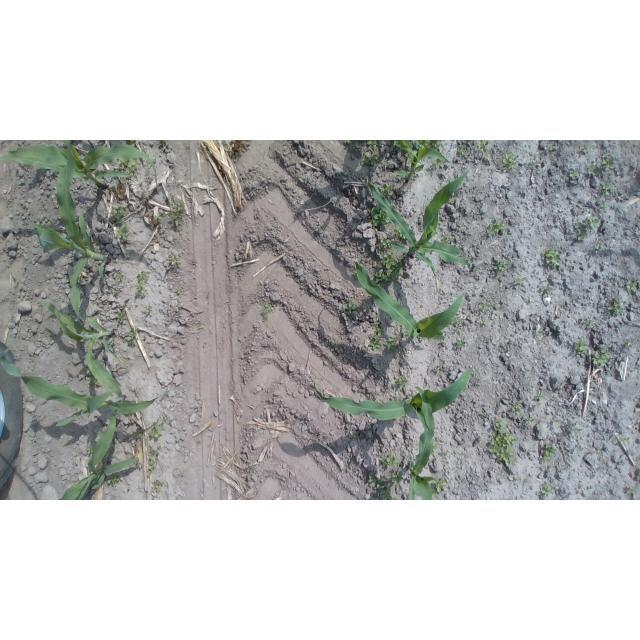Maize: (24, 141, 110, 324), (0, 344, 160, 427), (368, 167, 469, 292), (355, 253, 464, 340), (313, 366, 473, 420), (37, 299, 124, 398), (0, 140, 158, 189), (54, 414, 138, 500), (403, 386, 436, 500), (392, 140, 452, 182)
Weeds: (489, 415, 520, 465), (375, 252, 403, 285), (116, 155, 141, 177), (369, 205, 390, 227), (134, 271, 150, 295), (169, 201, 184, 224), (593, 349, 611, 367), (487, 220, 506, 237), (543, 248, 561, 265), (379, 453, 400, 467), (541, 444, 555, 464), (609, 297, 624, 315), (116, 221, 129, 241), (86, 367, 100, 385), (503, 152, 517, 170), (574, 339, 588, 357), (111, 206, 128, 220), (415, 141, 441, 150), (150, 422, 164, 438), (362, 151, 378, 165), (125, 326, 137, 344), (433, 479, 448, 493), (261, 302, 272, 321), (586, 214, 599, 230), (575, 224, 587, 241), (380, 484, 392, 501), (494, 260, 509, 273), (394, 226, 407, 240), (476, 140, 489, 154), (370, 335, 382, 350), (386, 338, 398, 353), (147, 448, 159, 463), (542, 482, 553, 498), (344, 302, 357, 315), (107, 474, 120, 487), (379, 184, 393, 196), (379, 236, 391, 250), (346, 140, 360, 152), (373, 322, 384, 337), (480, 300, 493, 312), (391, 472, 403, 485), (582, 317, 595, 329), (395, 376, 407, 388), (169, 255, 182, 266), (450, 317, 463, 328), (602, 158, 614, 169), (367, 473, 376, 487), (627, 281, 638, 292), (377, 477, 388, 488), (153, 480, 163, 492), (116, 312, 128, 322), (440, 235, 454, 243), (513, 405, 523, 416), (366, 141, 378, 150), (568, 428, 580, 437), (146, 464, 154, 477), (133, 428, 143, 438), (432, 158, 442, 168), (431, 441, 438, 455), (105, 449, 115, 458), (603, 184, 613, 193), (526, 418, 536, 427), (627, 486, 638, 494), (540, 287, 552, 294), (458, 145, 466, 155), (595, 246, 605, 254), (588, 166, 596, 175), (86, 446, 94, 454), (144, 306, 152, 314), (569, 172, 577, 180), (455, 340, 465, 346), (160, 391, 168, 398), (580, 146, 588, 153), (600, 204, 608, 211), (158, 140, 167, 146), (127, 140, 136, 146), (97, 428, 103, 437), (545, 145, 554, 151), (158, 213, 163, 223), (174, 287, 181, 294), (117, 274, 123, 282), (111, 289, 119, 295), (514, 279, 522, 285), (536, 394, 544, 400), (481, 319, 488, 325), (353, 432, 359, 439), (107, 341, 113, 348), (555, 419, 561, 426), (623, 437, 629, 444), (354, 270, 358, 279), (199, 322, 205, 328), (539, 331, 544, 338), (453, 329, 460, 334), (435, 367, 442, 372), (432, 491, 437, 498), (536, 403, 541, 409), (626, 342, 632, 347), (517, 477, 521, 484), (161, 419, 166, 424), (525, 369, 529, 375), (444, 450, 450, 454), (577, 447, 583, 451), (393, 497, 400, 500), (389, 399, 396, 402), (475, 383, 482, 386), (482, 412, 487, 416), (448, 199, 452, 203), (532, 152, 536, 156), (109, 188, 113, 191), (447, 180, 450, 184), (422, 337, 426, 340), (435, 498, 440, 500), (447, 498, 452, 500), (275, 303, 278, 306), (452, 192, 454, 196)
